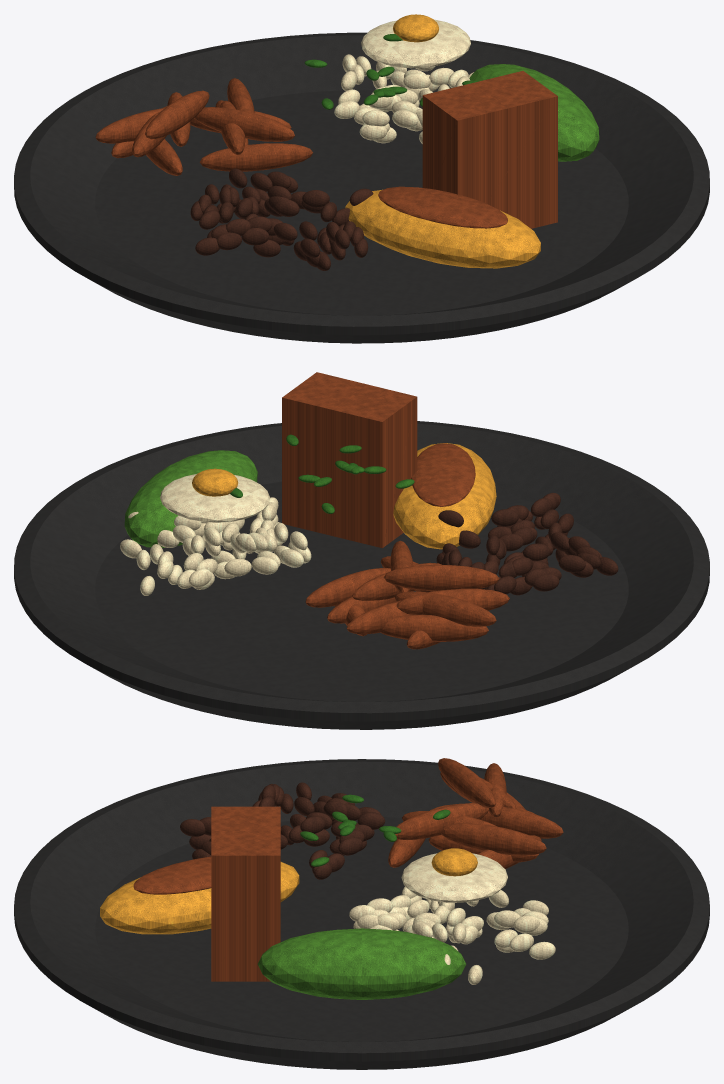
Rendered from bandeja-autor.glb.
3 views of the same model, one above another, from view 1: azimuth 30°, elevation 25°; view 2: azimuth 150°, elevation 25°; view 3: azimuth 270°, elevation 25° (orthographic).
Parts seen in each view (by area): view 1: part0, part3, part1, part2, part4, part5, part6; view 2: part0, part3, part2, part1, part4, part5, part6; view 3: part0, part3, part5, part2, part1, part4, part6.
Part boxes in pixels (x1,y1,x2,y2): part0: [14, 32, 709, 343]; part3: [95, 71, 557, 228]; part1: [190, 168, 373, 270]; part2: [334, 19, 473, 143]; part4: [345, 14, 540, 268]; part5: [469, 64, 599, 161]; part6: [304, 34, 477, 109]; part0: [14, 421, 709, 729]; part3: [282, 372, 509, 649]; part2: [120, 474, 311, 595]; part1: [436, 492, 618, 595]; part4: [192, 443, 496, 549]; part5: [124, 450, 257, 547]; part6: [230, 434, 414, 513]; part0: [14, 759, 709, 1069]; part3: [133, 758, 563, 981]; part5: [257, 928, 466, 999]; part2: [349, 853, 555, 984]; part1: [180, 782, 385, 879]; part4: [100, 848, 477, 934]; part6: [300, 794, 450, 866].
Bounding box in the file's own units: 0.3 × 0.075 × 0.3.
Materials: 7 (7 with a texture image).
